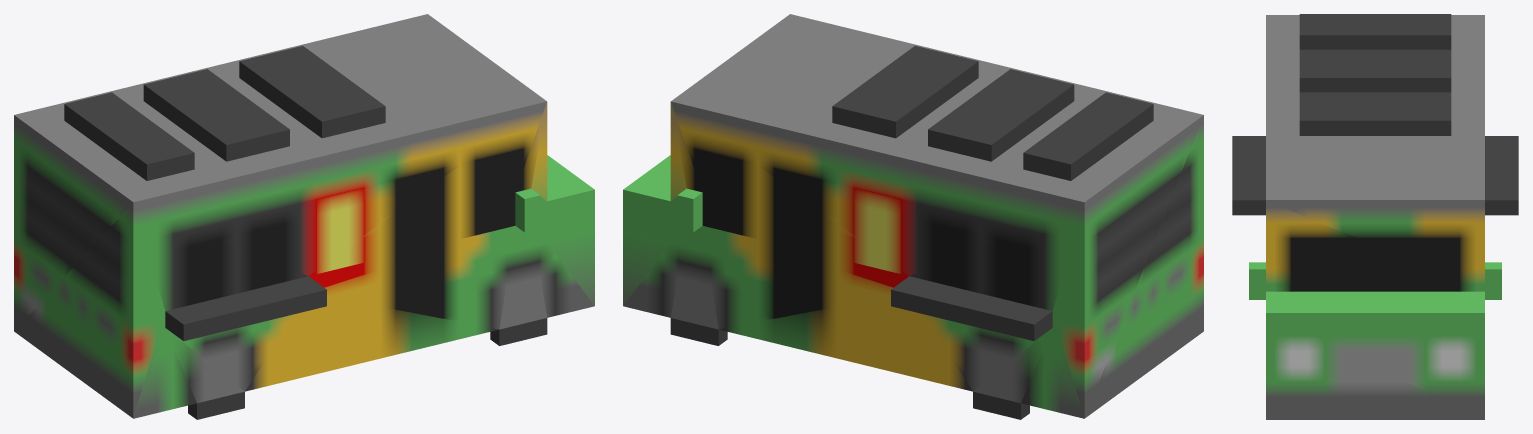
File: veh_lunch3.fbx
The picture shows the model from 3 angles, left to right: view 1: azimuth 30°, elevation 25°; view 2: azimuth 150°, elevation 25°; view 3: azimuth 270°, elevation 25°; orthographic projection. The views are drawn at different scales.
Parts seen in each view (by area): view 1: veh_lunch3; view 2: veh_lunch3; view 3: veh_lunch3.
Part boxes in pixels (box(x1,y1,x2,y2)): veh_lunch3: box(14, 14, 594, 419); veh_lunch3: box(623, 14, 1203, 419); veh_lunch3: box(1232, 14, 1518, 419).
Bounding box in the file's own units: 2.9 × 1.7 × 1.5.
1 material, 1 textured.
